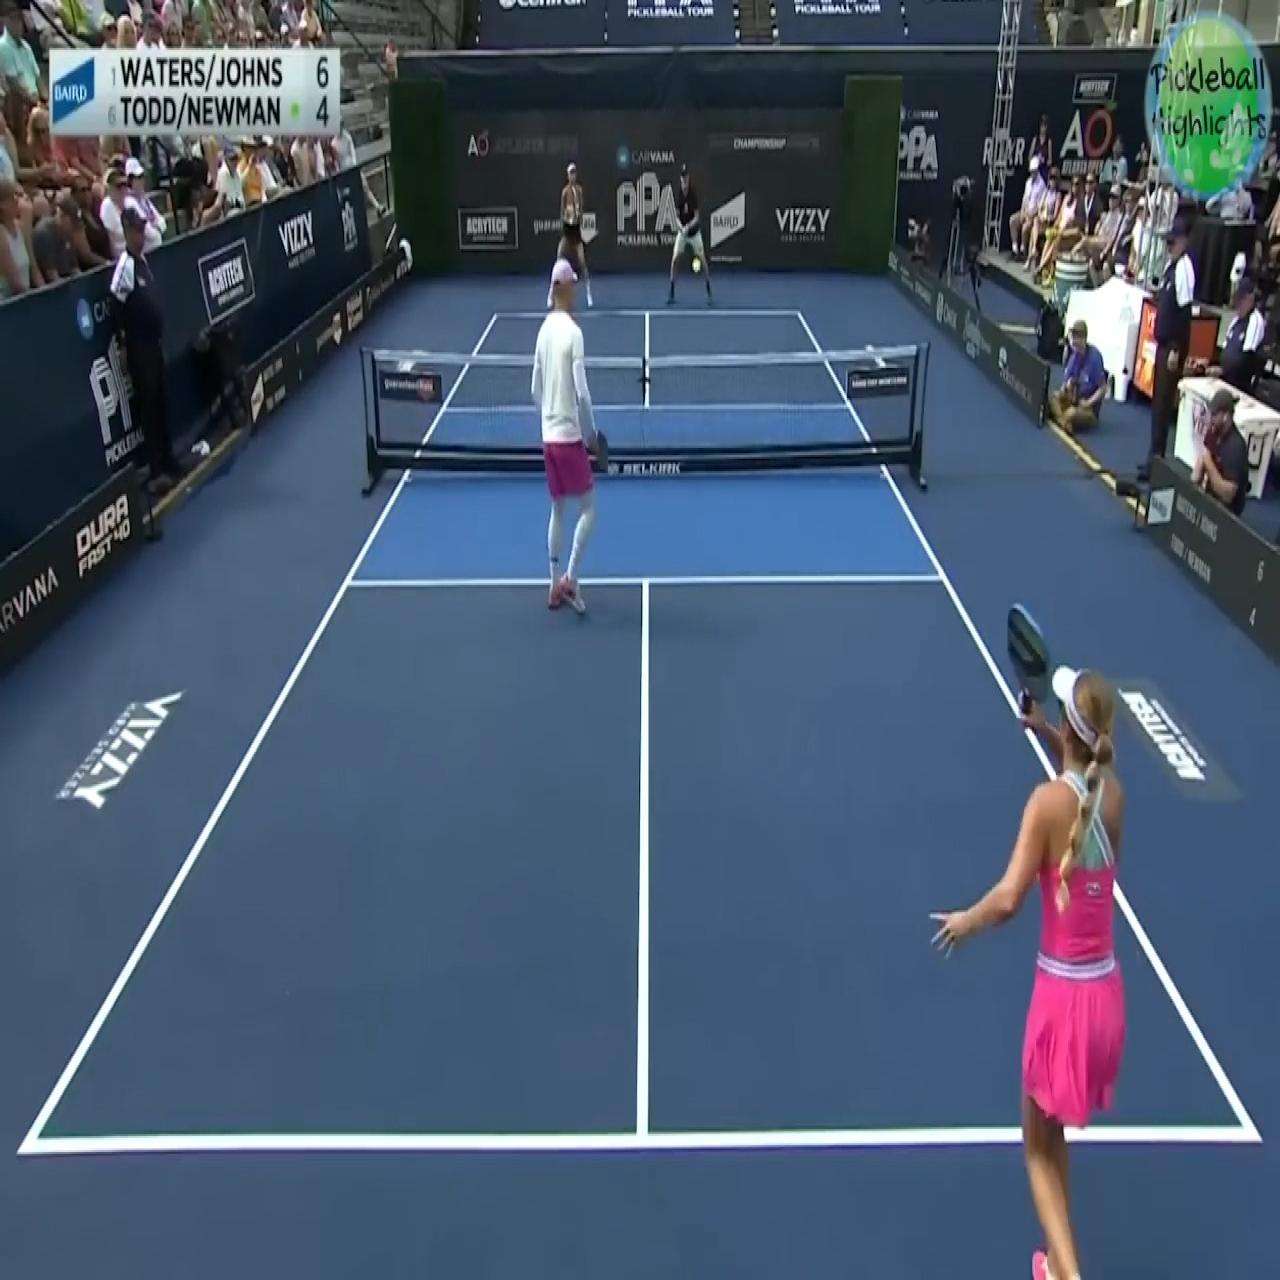Pickleball: (690, 254, 703, 274)
